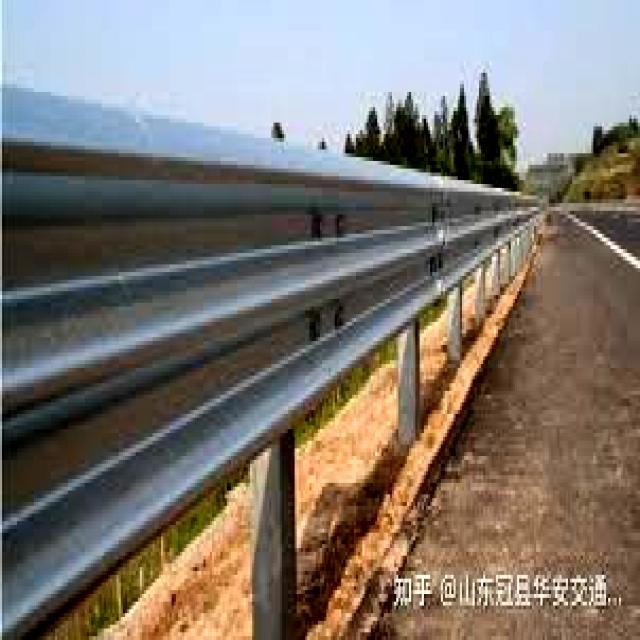Guard rail: (0, 86, 536, 634)
